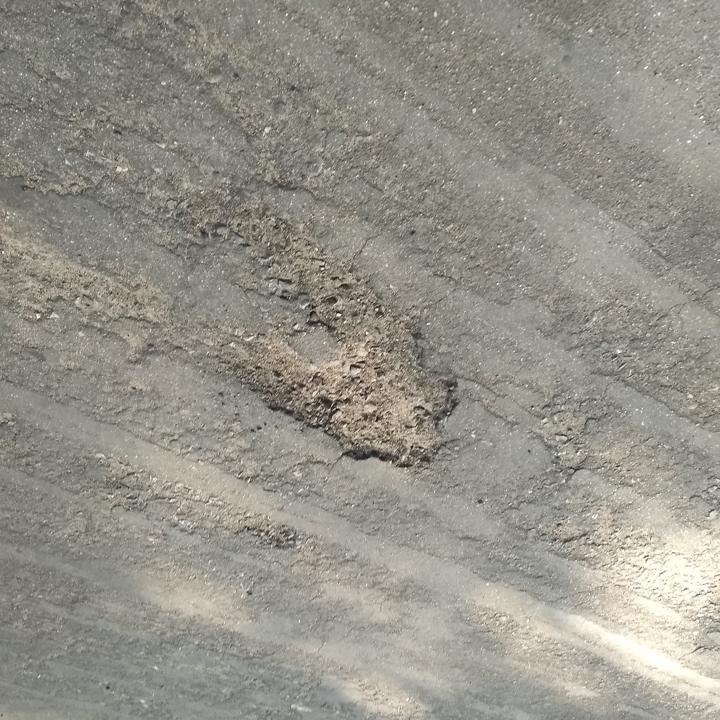pothole: (222, 230, 466, 475)
